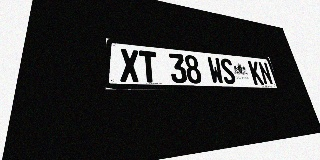3: (168, 53, 188, 83)
8: (184, 54, 202, 84)
K: (248, 61, 264, 85)
N: (257, 62, 274, 85)
S: (219, 58, 237, 84)
T: (139, 50, 159, 83)
W: (207, 57, 225, 84)
X: (120, 48, 140, 82)
